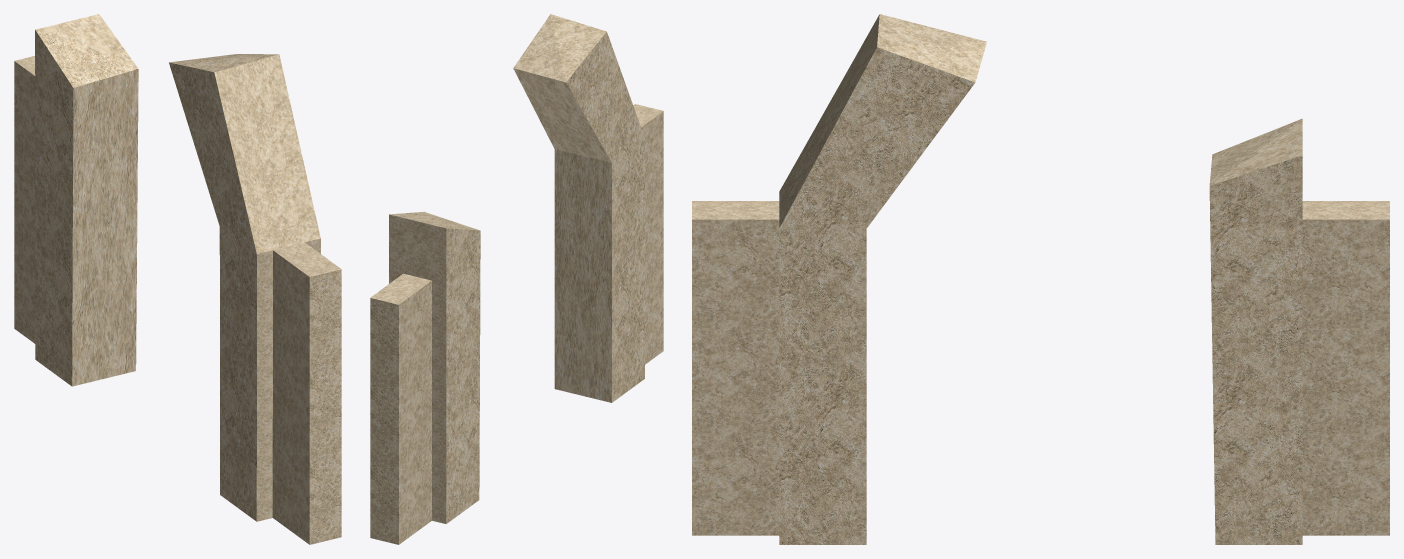
The model's file is thm_tato_imprv_wallgate_s02_l3.fbx.
3 views of the same model, side by side, from view 1: azimuth 30°, elevation 25°; view 2: azimuth 150°, elevation 25°; view 3: azimuth 270°, elevation 25° (orthographic). The views are drawn at different scales.
Parts seen in each view (by area): view 1: mesh_node; view 2: mesh_node; view 3: mesh_node.
Boxes of the visible parts, <box> form: mesh_node: <box>14,14,341,544</box>; mesh_node: <box>370,14,663,544</box>; mesh_node: <box>692,14,1389,544</box>.
Bounding box in the file's own units: 1 × 6.3 × 8.
